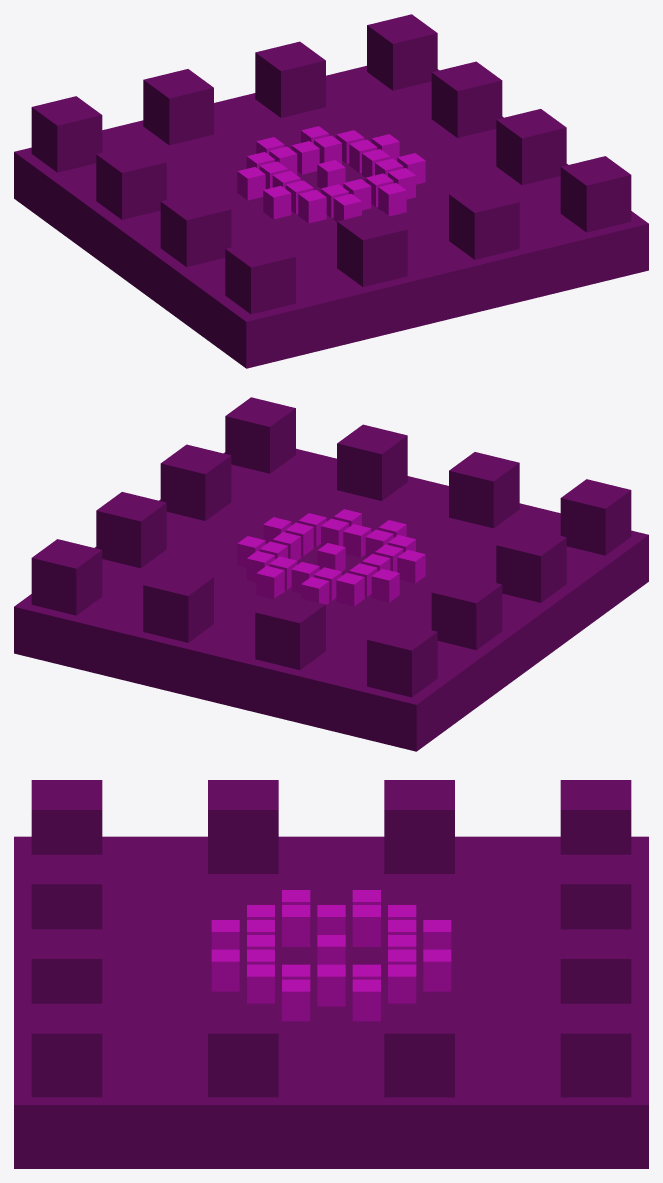
File: GermHole.fbx
3 renders of one model, top to bottom at view 1: azimuth 30°, elevation 25°; view 2: azimuth 150°, elevation 25°; view 3: azimuth 270°, elevation 25°, orthographic. The views are drawn at different scales.
Parts seen in each view (by area): view 1: Cube.001, Cube.045, Cube.042, Cube.028, Cube.043, Cube.023, Cube.033, Cube.041, Cube.024, Cube.029, Cube.039, Cube.046 (+1 smaller); view 2: Cube.001, Cube.044, Cube.043, Cube.037, Cube.042, Cube.029, Cube.033, Cube.036, Cube.040, Cube.047, Cube.023, Cube.038 (+1 smaller); view 3: Cube.001, Cube.026, Cube.028, Cube.037, Cube.038, Cube.039, Cube.031, Cube.034, Cube.047, Cube.046, Cube.033, Cube.032 (+2 smaller).
Part boxes in pixels (box(x1,y1,x2,y2)): Cube.001: box(14, 14, 648, 368); Cube.045: box(298, 189, 326, 223); Cube.042: box(263, 186, 291, 219); Cube.028: box(378, 183, 406, 216); Cube.043: box(237, 167, 265, 200); Cube.023: box(291, 141, 319, 174); Cube.033: box(317, 160, 345, 188); Cube.041: box(333, 194, 361, 221); Cube.024: box(314, 135, 341, 164); Cube.029: box(343, 179, 371, 210); Cube.039: box(397, 153, 425, 184); Cube.046: box(388, 168, 415, 199); Cube.001: box(14, 397, 648, 751); Cube.044: box(336, 572, 364, 606); Cube.043: box(371, 569, 399, 602); Cube.037: box(256, 566, 284, 599); Cube.042: box(397, 550, 425, 583); Cube.029: box(343, 524, 371, 557); Cube.033: box(317, 543, 345, 571); Cube.036: box(301, 577, 329, 604); Cube.040: box(321, 518, 348, 547); Cube.047: box(246, 551, 274, 582); Cube.023: box(291, 562, 319, 593); Cube.038: box(237, 536, 265, 567); Cube.001: box(14, 780, 648, 1168); Cube.026: box(317, 964, 345, 1006); Cube.028: box(211, 949, 239, 991); Cube.037: box(423, 949, 451, 991); Cube.038: box(352, 979, 380, 1021); Cube.039: box(282, 979, 310, 1021); Cube.031: box(282, 905, 310, 946); Cube.034: box(352, 905, 380, 946); Cube.047: box(388, 964, 416, 1003); Cube.046: box(247, 964, 274, 1003); Cube.033: box(317, 935, 345, 964); Cube.032: box(317, 905, 345, 934).
Bounding box in the file's own units: 180 × 40 × 180.
